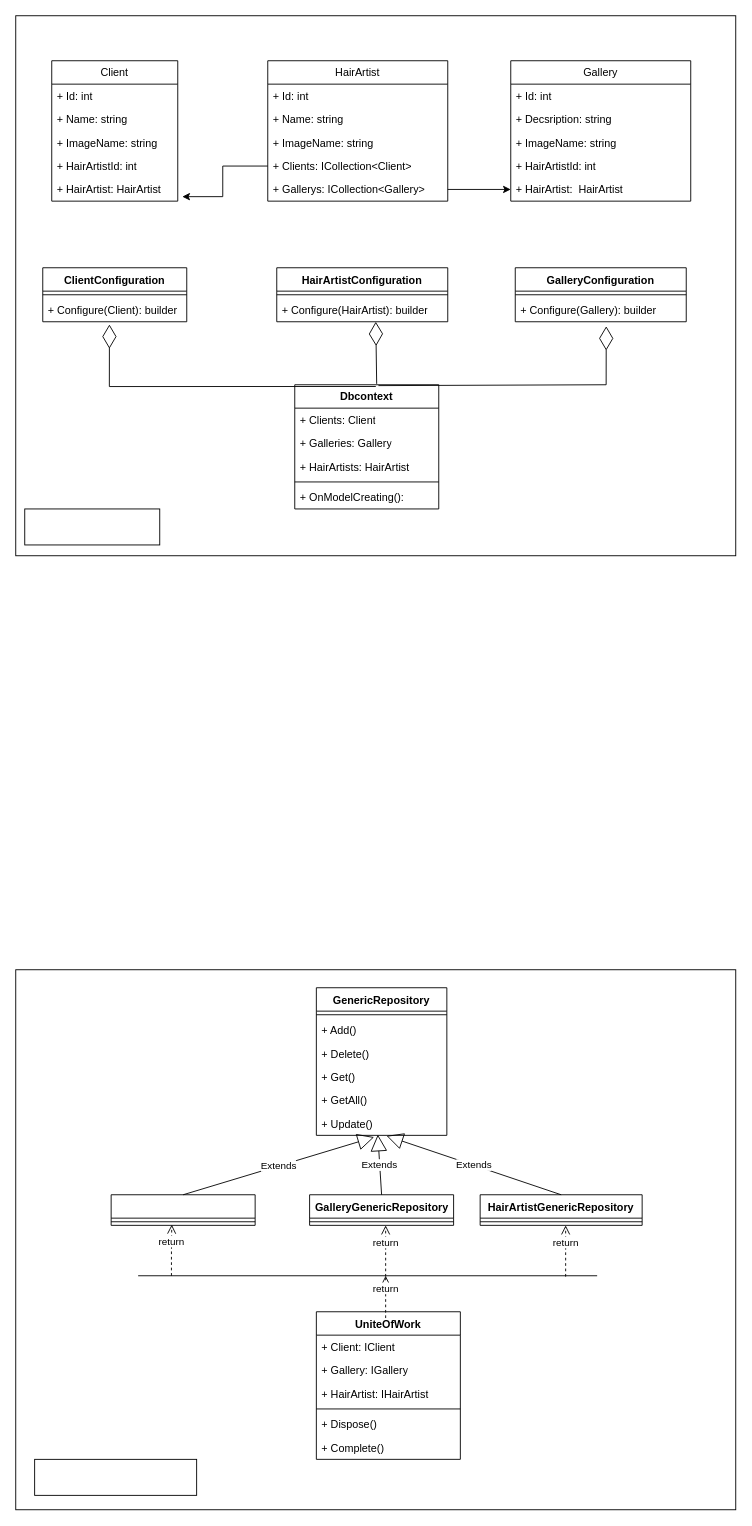
The diagram is 752 pixels wide and 1526 high, and some of its shapes have lost their labels. Each missing label, with the centre of its shape:
"Business Logic Layer" belongs at (115,1476).
"ClientGenericRepository" belongs at (182,1209).
"Data Access Layer" belongs at (92,526).
